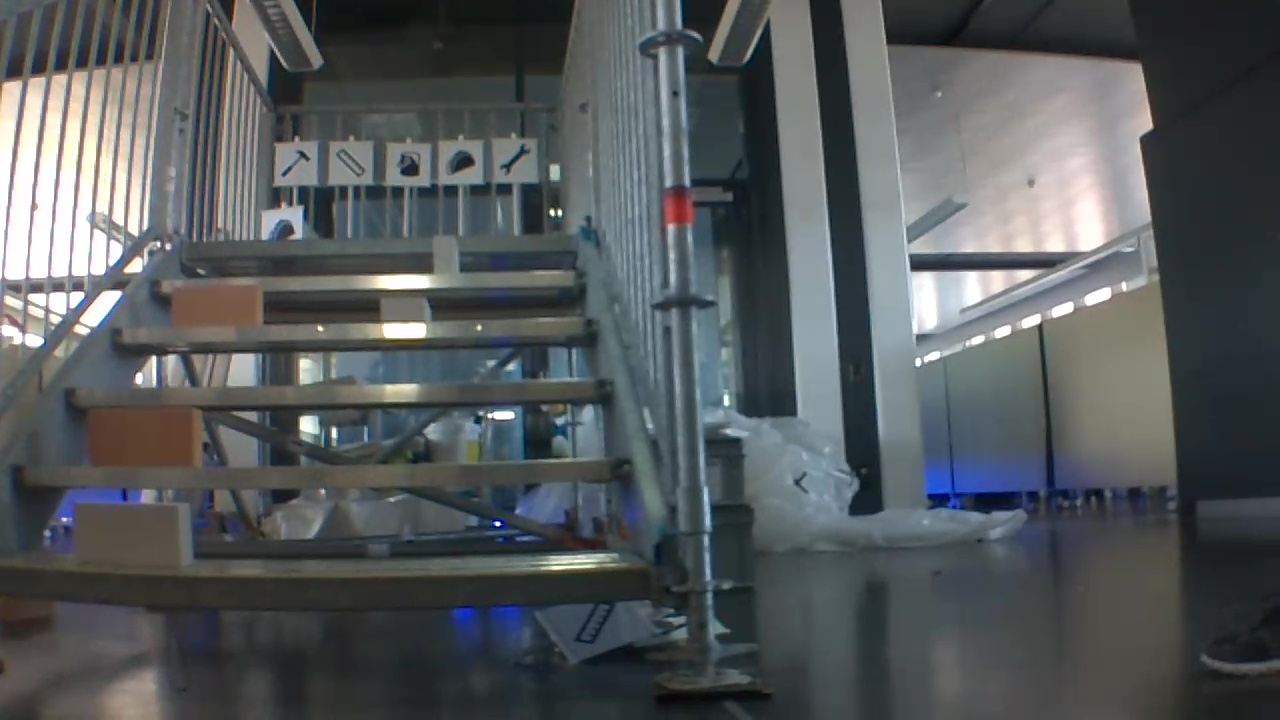brick: (73, 502, 190, 565), (85, 408, 202, 465), (172, 287, 262, 326), (380, 299, 430, 322), (433, 235, 460, 275)
bucket: (390, 147, 424, 181)
edge: (1, 563, 651, 605), (11, 457, 633, 487), (108, 314, 599, 343), (62, 378, 611, 401), (181, 234, 582, 253), (151, 272, 586, 289)
hammer: (277, 146, 311, 180)
ruler: (329, 146, 368, 178)
stairs: (0, 0, 774, 710)
steps: (1, 226, 659, 639)
taco: (444, 146, 478, 177), (263, 215, 297, 239)
wrench: (495, 139, 535, 179)
